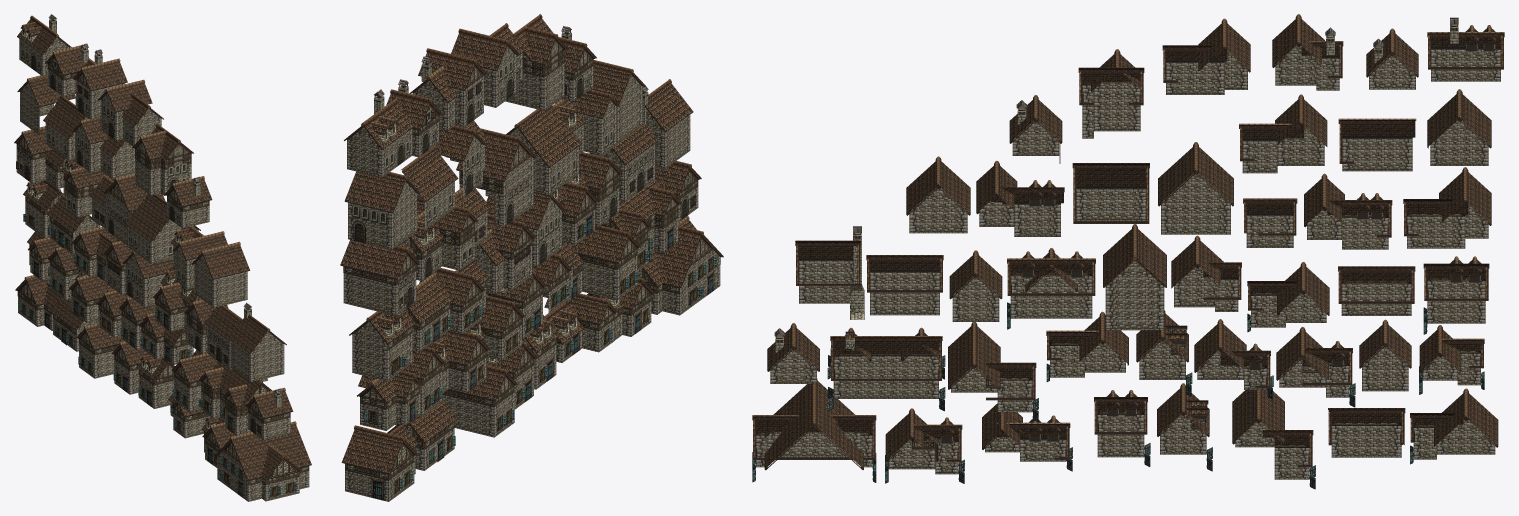
File: MbdMD_Co_T_River_M_B_Build_07.FBX
3 views of the same model, side by side, from view 1: azimuth 30°, elevation 25°; view 2: azimuth 150°, elevation 25°; view 3: azimuth 270°, elevation 25° (orthographic). The views are drawn at different scales.
Parts seen in each view (by area): view 1: MbdMD_Co_T_River_L_B_Pub, MbdMD_Co_T_River_M_B_Build_03, MbdMD_Co_T_River_M_B_Build_06, MbdMD_Co_T_River_L_B_Yashiki_A, MbdMD_Co_T_River_M_B_Build_05, MbdMD_Co_T_River_M_B_Build_07, MbdMD_Co_T_River_M_B_Build_09, MbdMD_Co_T_River_M_B_Build_02, MbdMD_Co_T_River_M_A_Pub, MbdMD_Co_T_River_M_B_House_A, MbdMD_Co_T_River_M_A_House_A, MbdMD_Co_T_River_M_B_House_D (+30 smaller); view 2: MbdMD_Co_T_River_L_B_Pub, MbdMD_Co_T_River_M_A_Pub, MbdMD_Co_T_River_M_B_Build_08, MbdMD_Co_T_River_L_A_Build_01, MbdMD_Co_T_River_L_B_Build_09, MbdMD_Co_T_River_M_B_House_A, MbdMD_Co_T_River_M_B_AgitatingPoint, MbdMD_Co_T_River_M_B_House_C, MbdMD_Co_T_River_M_B_Build_09, MbdMD_Co_T_River_M_B_Build_03, MbdMD_Co_T_River_L_B_Yashiki_A, MbdMD_Co_T_River_L_B_Build_06 (+30 smaller); view 3: MbdMD_Co_T_River_L_B_Yashiki_A, MbdMD_Co_T_River_L_B_Pub, MbdMD_Co_T_River_M_A_Build_02, MbdMD_Co_T_River_L_B_Build_02, MbdMD_Co_T_River_M_B_AgitatingPoint, MbdMD_Co_T_River_L_B_Build_09, MbdMD_Co_T_River_M_A_Pub, MbdMD_Co_T_River_M_B_Build_05, MbdMD_Co_T_River_M_B_Build_02, MbdMD_Co_T_River_L_A_Build_02, MbdMD_Co_T_River_M_B_Build_09, MbdMD_Co_T_River_M_A_Inn (+30 smaller).
Part boxes in pixels (x1=…): MbdMD_Co_T_River_L_B_Pub: x1=214, y1=421, x2=311, y2=501; MbdMD_Co_T_River_M_B_Build_03: x1=132, y1=123, x2=193, y2=195; MbdMD_Co_T_River_M_B_Build_06: x1=192, y1=241, x2=249, y2=307; MbdMD_Co_T_River_L_B_Yashiki_A: x1=198, y1=361, x2=271, y2=435; MbdMD_Co_T_River_M_B_Build_05: x1=98, y1=79, x2=163, y2=146; MbdMD_Co_T_River_M_B_Build_07: x1=228, y1=302, x2=286, y2=381; MbdMD_Co_T_River_M_B_Build_09: x1=125, y1=194, x2=200, y2=263; MbdMD_Co_T_River_M_B_Build_02: x1=72, y1=117, x2=134, y2=178; MbdMD_Co_T_River_M_A_Pub: x1=14, y1=126, x2=67, y2=188; MbdMD_Co_T_River_M_B_House_A: x1=73, y1=49, x2=127, y2=119; MbdMD_Co_T_River_M_A_House_A: x1=245, y1=387, x2=293, y2=440; MbdMD_Co_T_River_M_B_House_D: x1=164, y1=176, x2=212, y2=228; MbdMD_Co_T_River_L_B_Pub: x1=638, y1=216, x2=723, y2=315; MbdMD_Co_T_River_M_A_Pub: x1=340, y1=240, x2=419, y2=315; MbdMD_Co_T_River_M_B_Build_08: x1=344, y1=171, x2=420, y2=249; MbdMD_Co_T_River_L_A_Build_01: x1=341, y1=425, x2=418, y2=501; MbdMD_Co_T_River_L_B_Build_09: x1=543, y1=225, x2=640, y2=302; MbdMD_Co_T_River_M_B_House_A: x1=409, y1=48, x2=487, y2=130; MbdMD_Co_T_River_M_B_AgitatingPoint: x1=456, y1=128, x2=536, y2=227; MbdMD_Co_T_River_M_B_House_C: x1=344, y1=89, x2=415, y2=177; MbdMD_Co_T_River_M_B_Build_09: x1=506, y1=105, x2=582, y2=195; MbdMD_Co_T_River_M_B_Build_03: x1=505, y1=14, x2=567, y2=110; MbdMD_Co_T_River_L_B_Yashiki_A: x1=601, y1=179, x2=681, y2=271; MbdMD_Co_T_River_L_B_Build_06: x1=349, y1=310, x2=415, y2=381; MbdMD_Co_T_River_L_B_Yashiki_A: x1=827, y1=327, x2=945, y2=411; MbdMD_Co_T_River_L_B_Pub: x1=752, y1=378, x2=876, y2=482; MbdMD_Co_T_River_M_A_Build_02: x1=1103, y1=224, x2=1166, y2=330; MbdMD_Co_T_River_L_B_Build_02: x1=1007, y1=248, x2=1095, y2=329; MbdMD_Co_T_River_M_B_AgitatingPoint: x1=1158, y1=142, x2=1233, y2=234; MbdMD_Co_T_River_L_B_Build_09: x1=948, y1=322, x2=1038, y2=422; MbdMD_Co_T_River_M_A_Pub: x1=1403, y1=167, x2=1491, y2=248; MbdMD_Co_T_River_M_B_Build_05: x1=1162, y1=18, x2=1250, y2=94; MbdMD_Co_T_River_M_B_Build_02: x1=1239, y1=94, x2=1327, y2=173; MbdMD_Co_T_River_L_A_Build_02: x1=1232, y1=390, x2=1315, y2=489; MbdMD_Co_T_River_M_B_Build_09: x1=1072, y1=163, x2=1149, y2=223; MbdMD_Co_T_River_M_A_Inn: x1=1304, y1=173, x2=1392, y2=249.
Size of the model in its own units: 1172 by 4412 by 6442.
